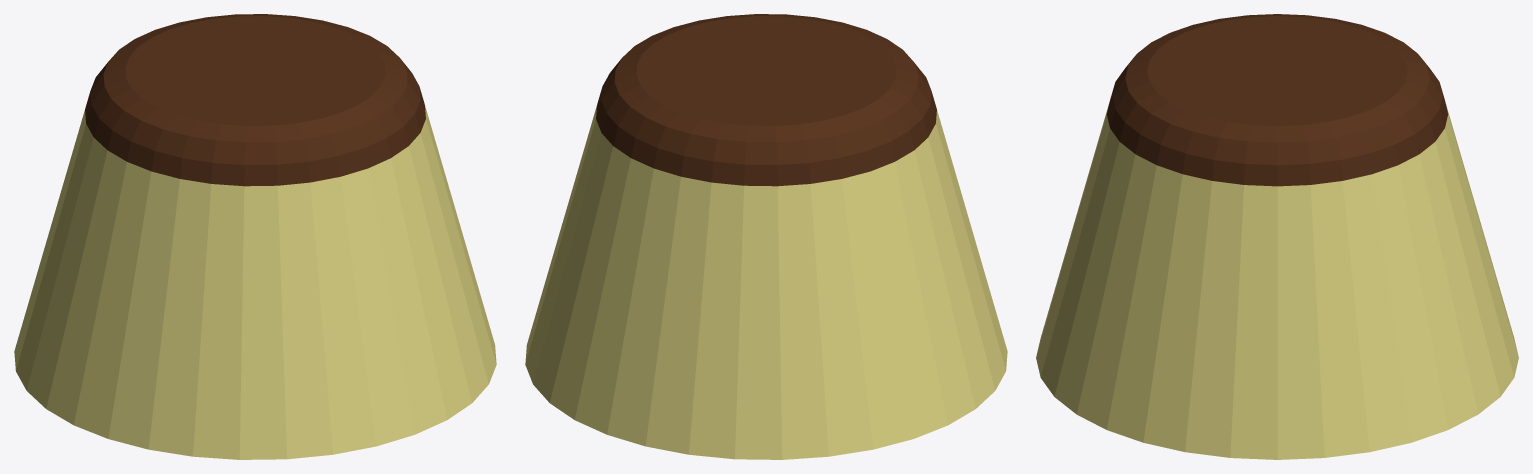
File: pudding.fbx
The picture shows the model from 3 angles, left to right: view 1: azimuth 30°, elevation 25°; view 2: azimuth 150°, elevation 25°; view 3: azimuth 270°, elevation 25°; orthographic projection.
Visible parts, largest first — view 1: Cylinder; view 2: Cylinder; view 3: Cylinder.
Boxes of the visible parts, bbox=[...] form: Cylinder: bbox=[14, 14, 496, 459]; Cylinder: bbox=[525, 14, 1007, 459]; Cylinder: bbox=[1036, 14, 1518, 459].
Bounding box in the file's own units: 305 × 200 × 305.
